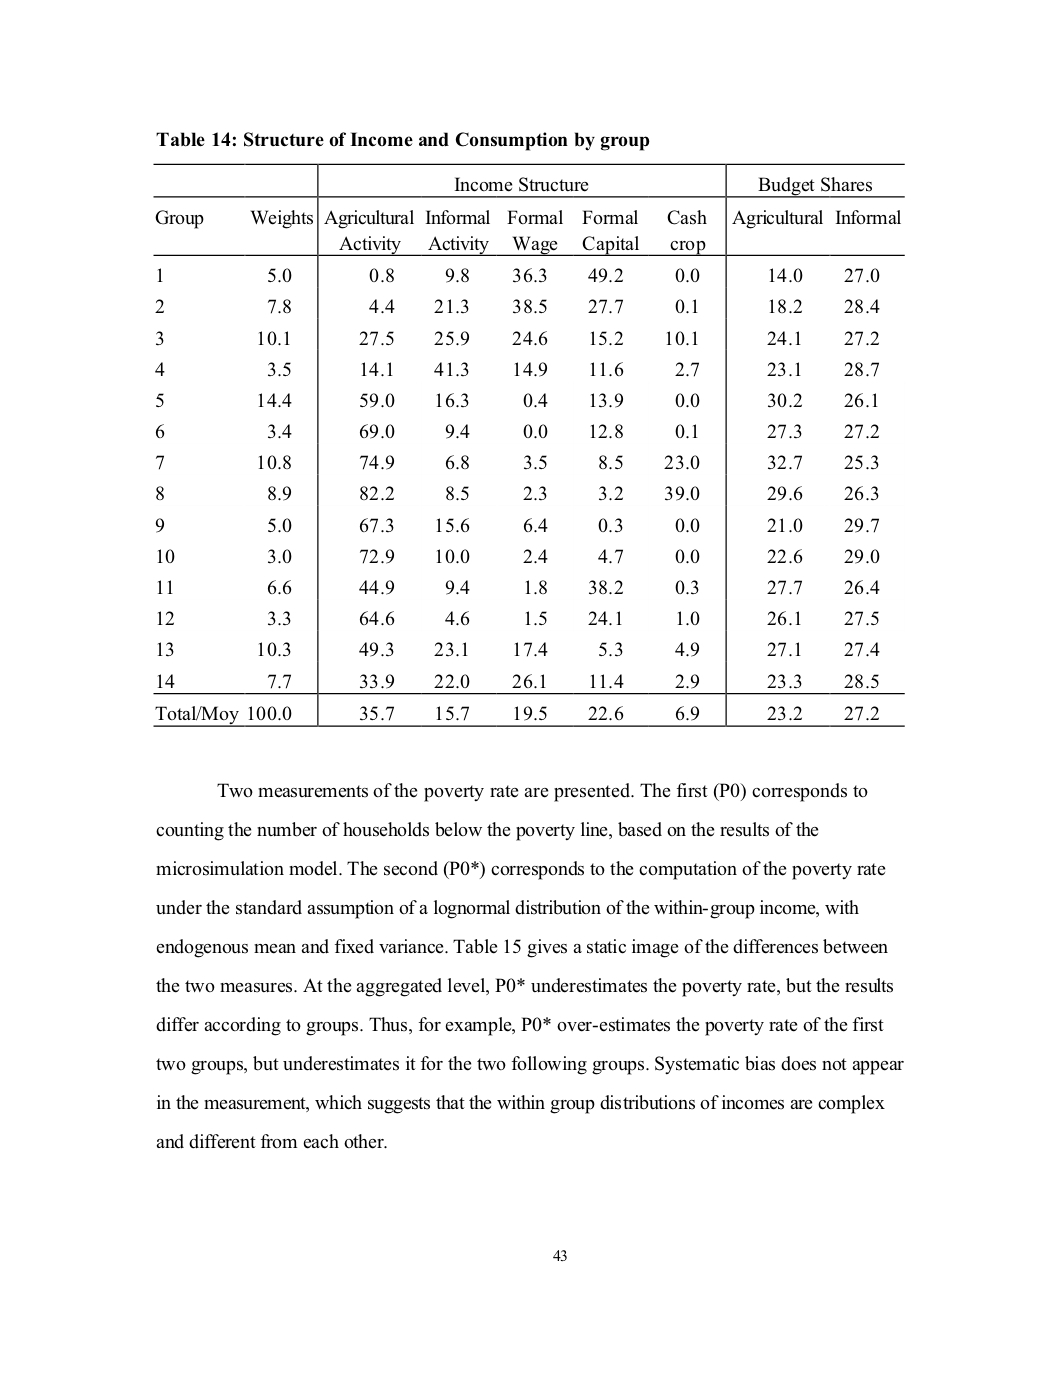Table: (153, 162, 904, 727)
